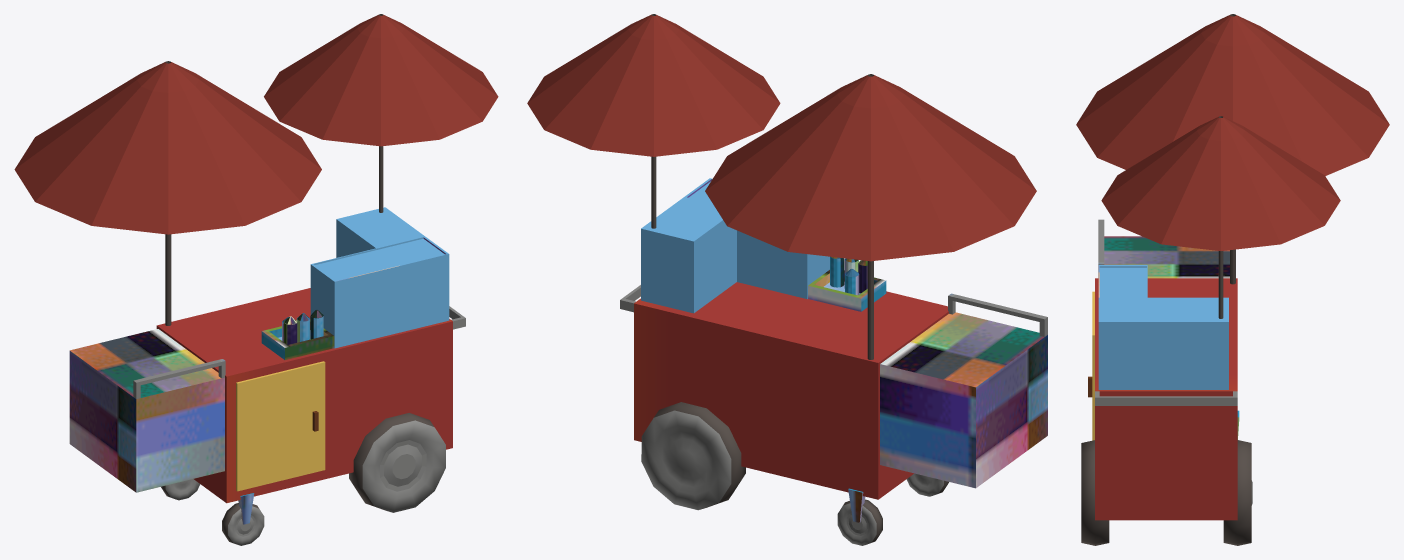
Rendered from FoodCart_Hotdog.fbx.
3 views of the same model, side by side, from view 1: azimuth 30°, elevation 25°; view 2: azimuth 150°, elevation 25°; view 3: azimuth 270°, elevation 25° (orthographic). The views are drawn at different scales.
Visible parts, largest first — view 1: FoodCart_Hotdog; view 2: FoodCart_Hotdog; view 3: FoodCart_Hotdog.
Part boxes in pixels (bbox=[...]): FoodCart_Hotdog: bbox=[14, 14, 498, 545]; FoodCart_Hotdog: bbox=[527, 14, 1047, 545]; FoodCart_Hotdog: bbox=[1076, 14, 1389, 545].
Bounding box in the file's own units: 238 × 226 × 143.
1 material, 1 textured.
